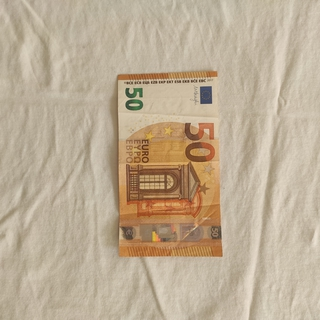50EUROFront: (116, 70, 223, 257)
